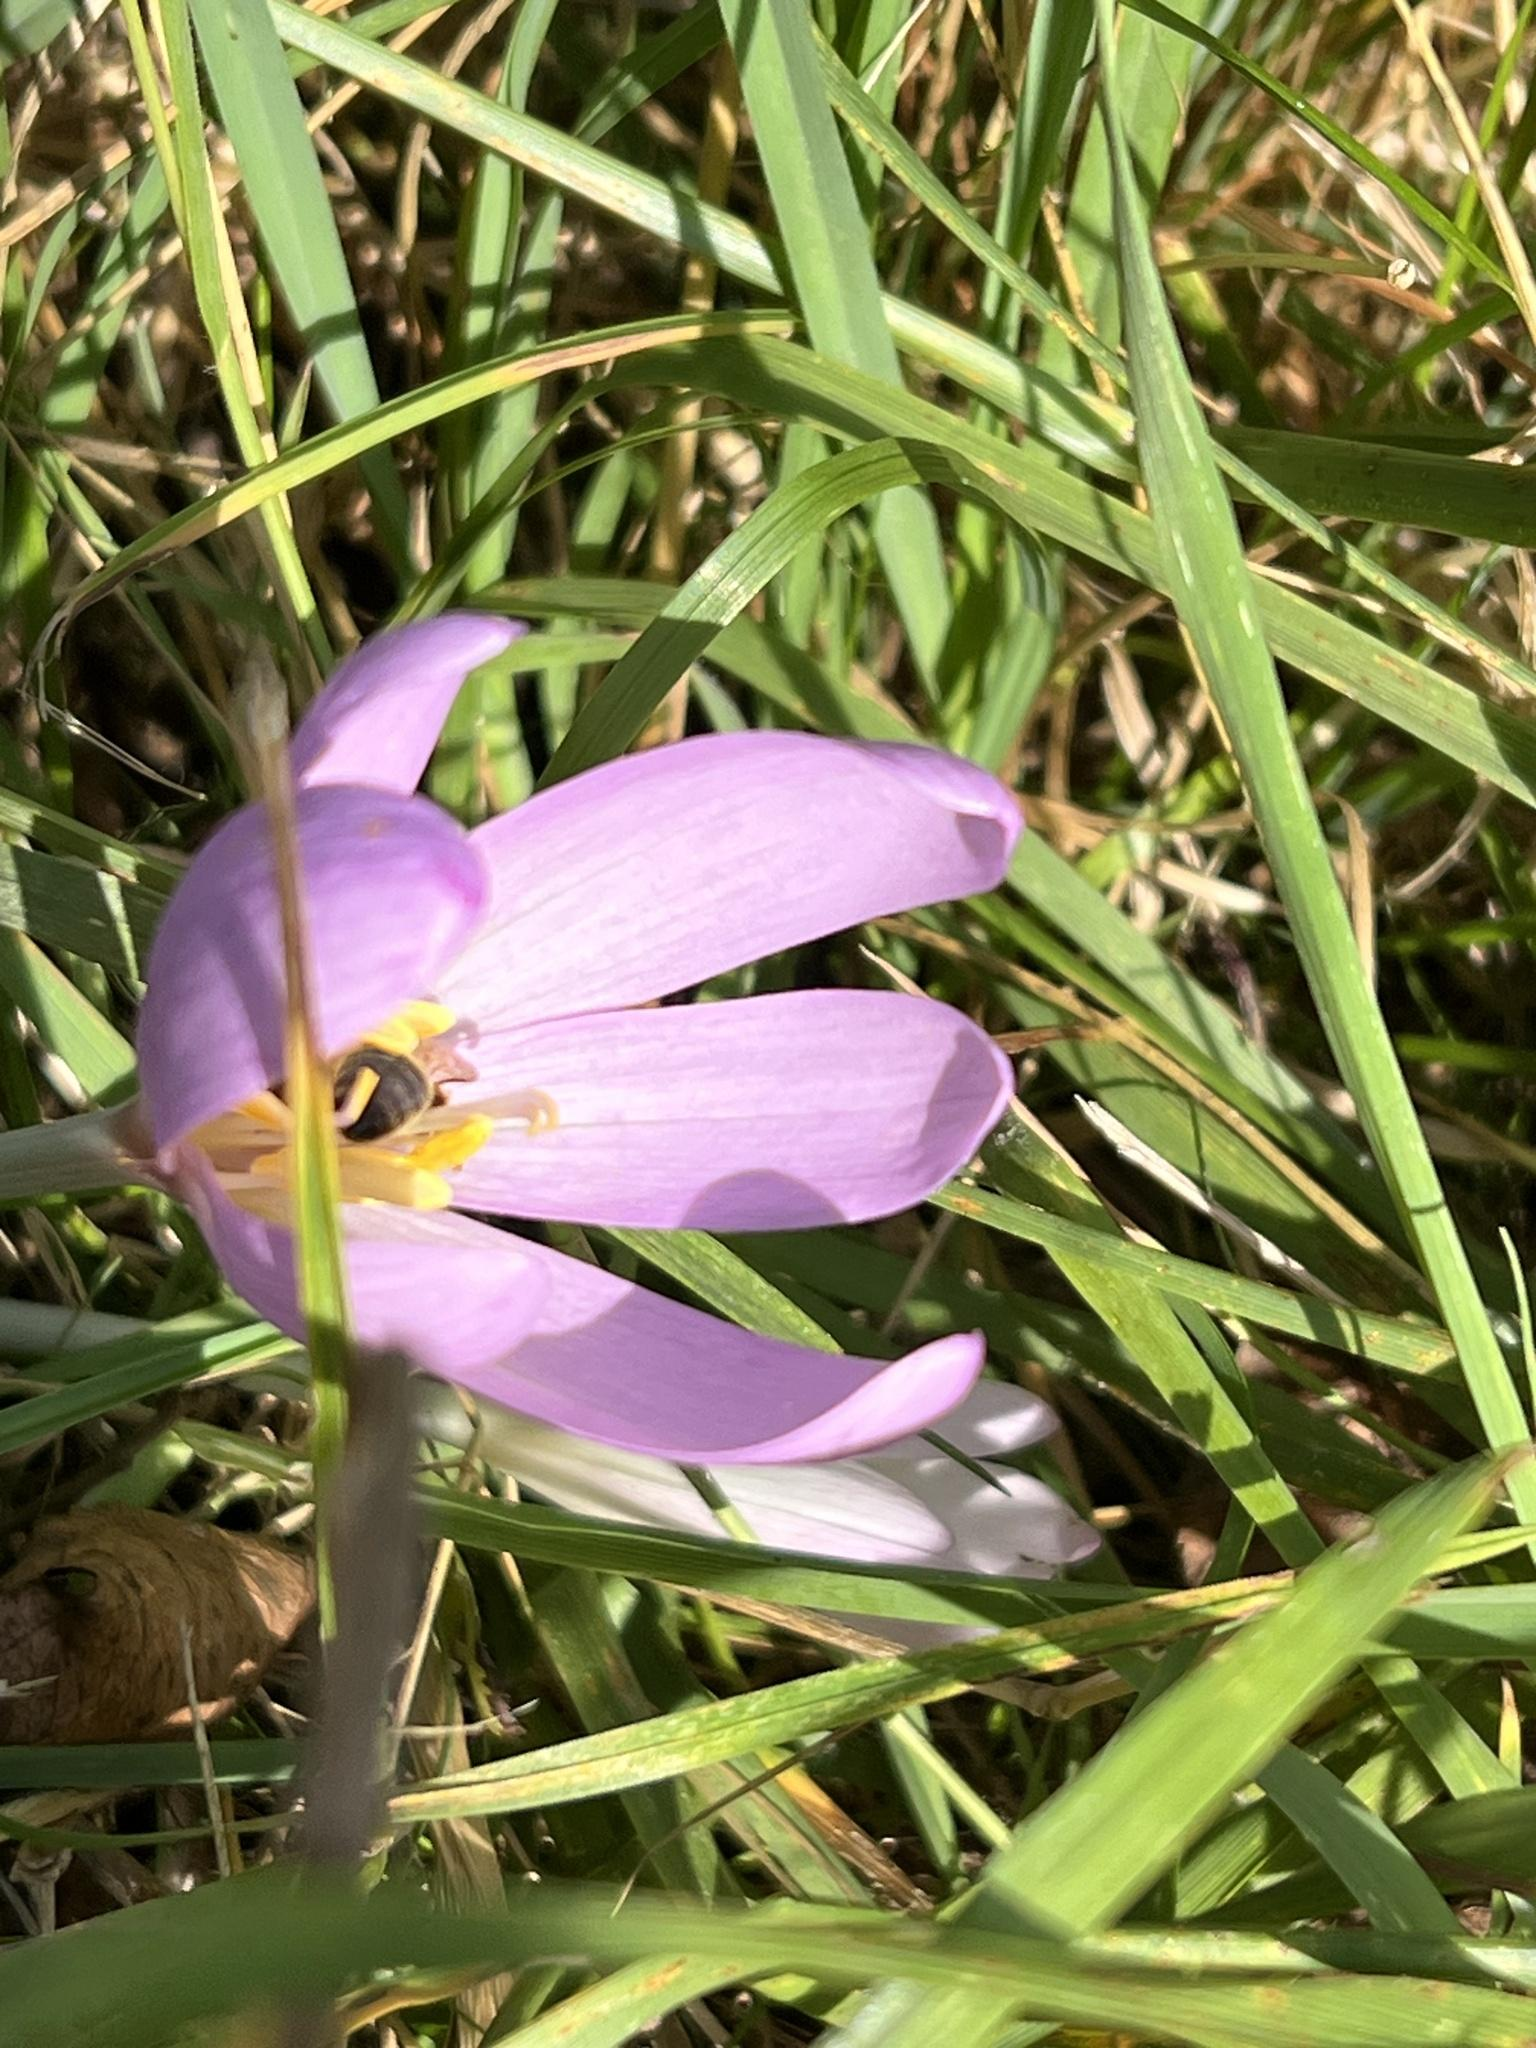Colchicum autumnale L: (110, 574, 1117, 1692)
